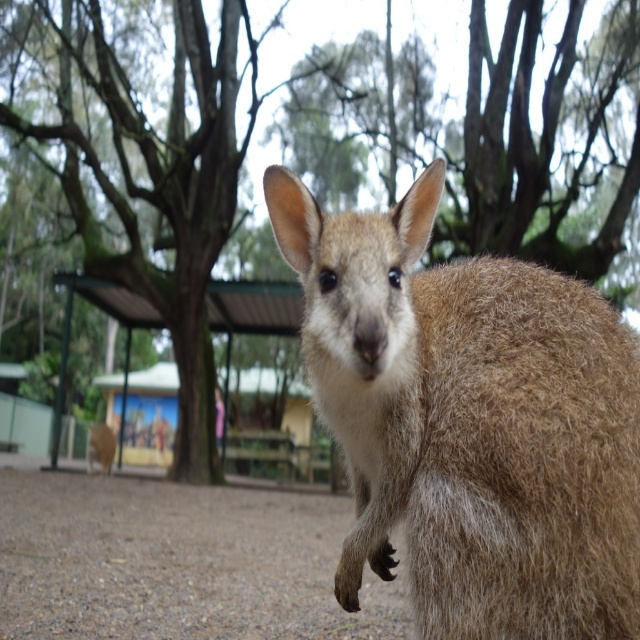Kangaroo: (263, 156, 640, 639)
